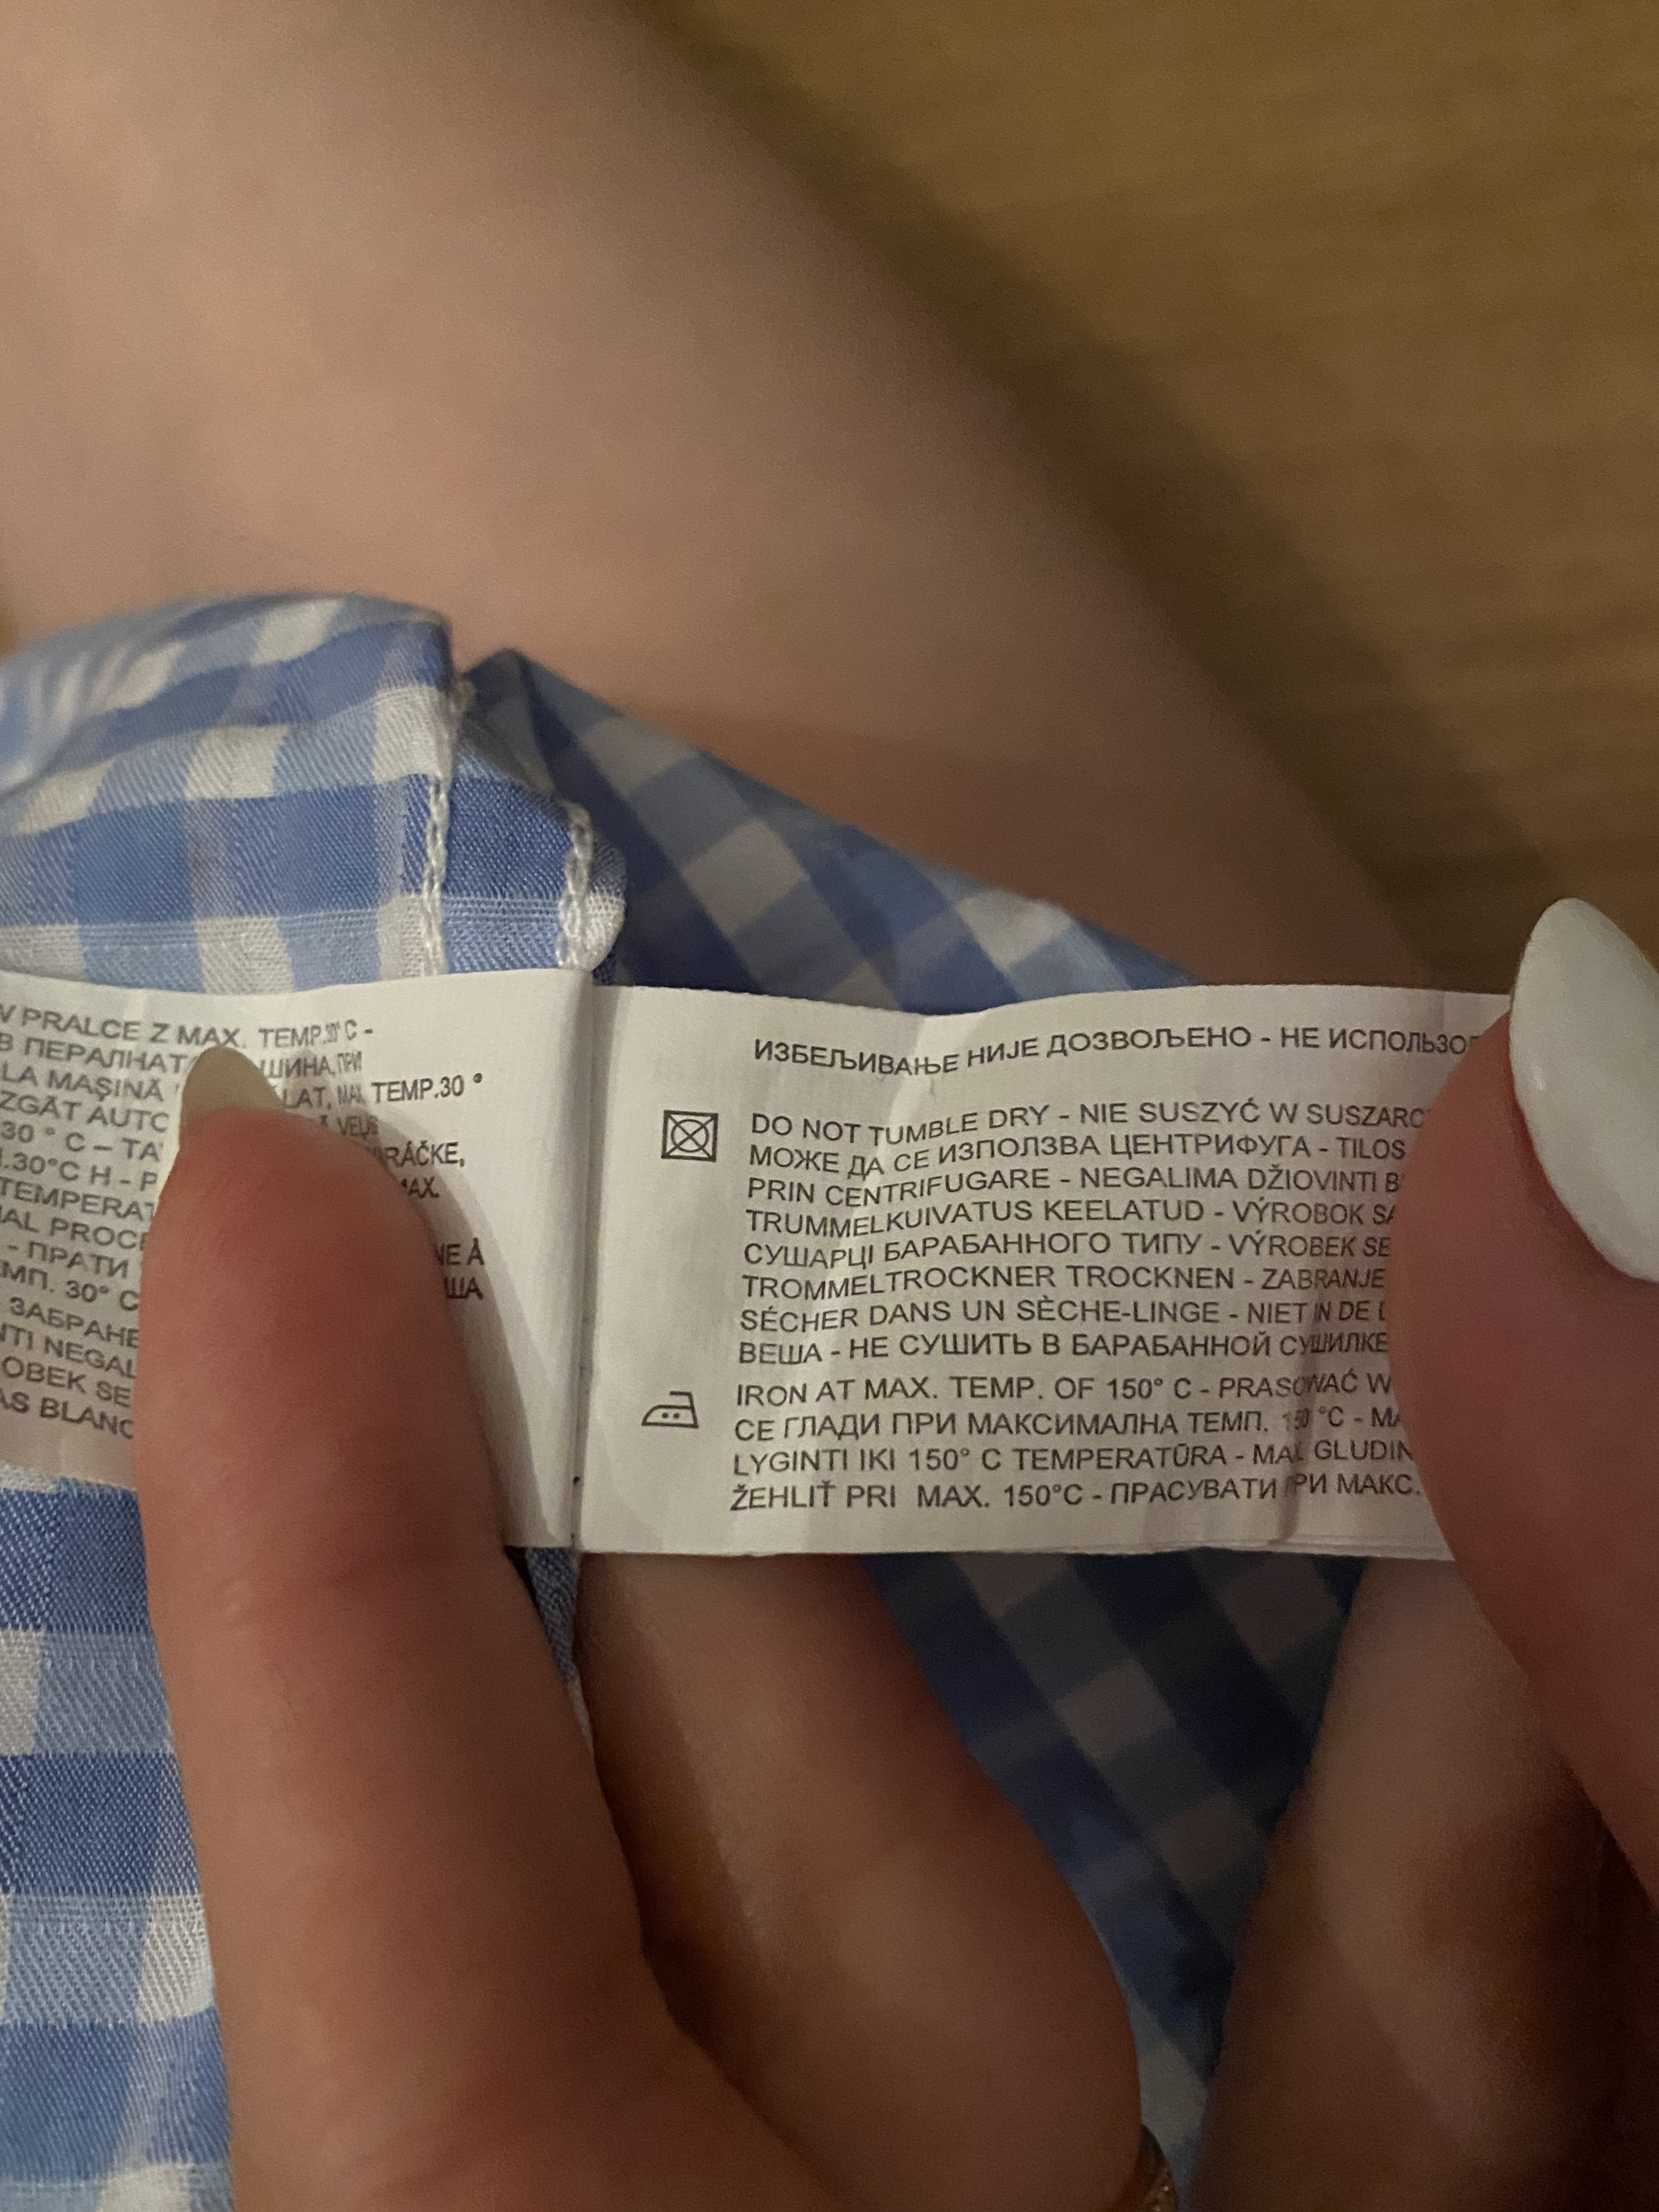do_not_tumble_drying: (653, 1103, 721, 1166)
ironing_at_med_temp: (636, 1377, 706, 1442)
